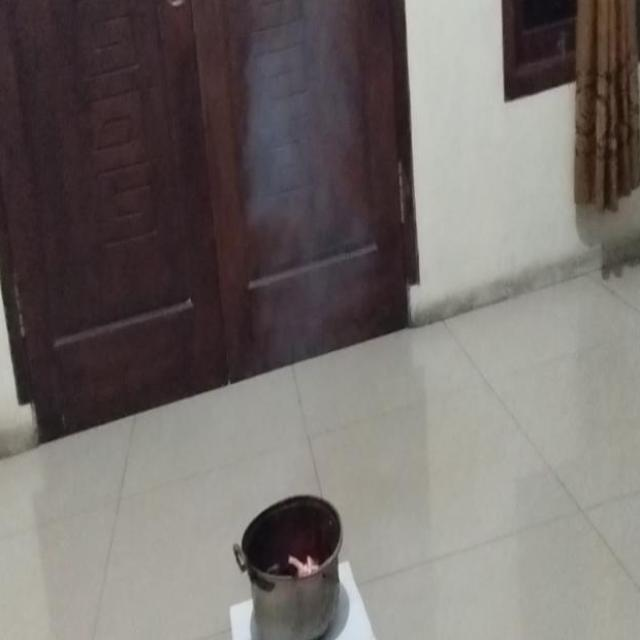fire: (240, 0, 377, 355)
